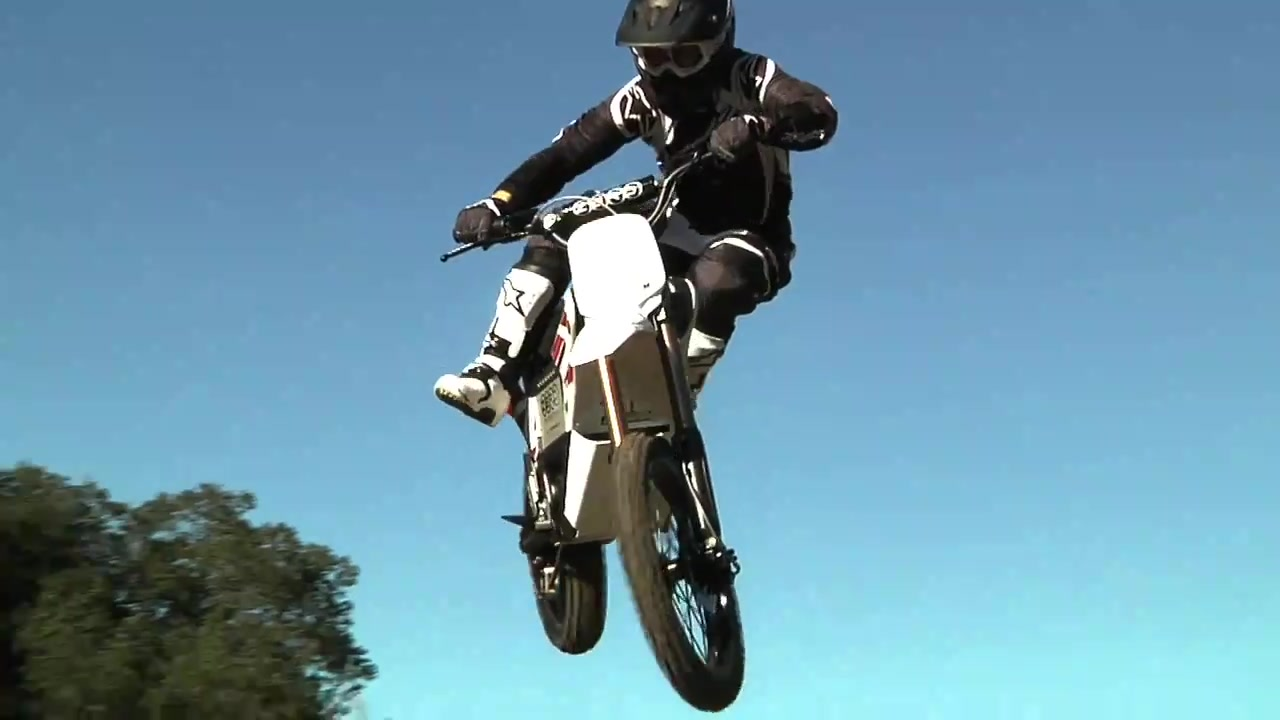motorbike: (439, 117, 781, 716)
